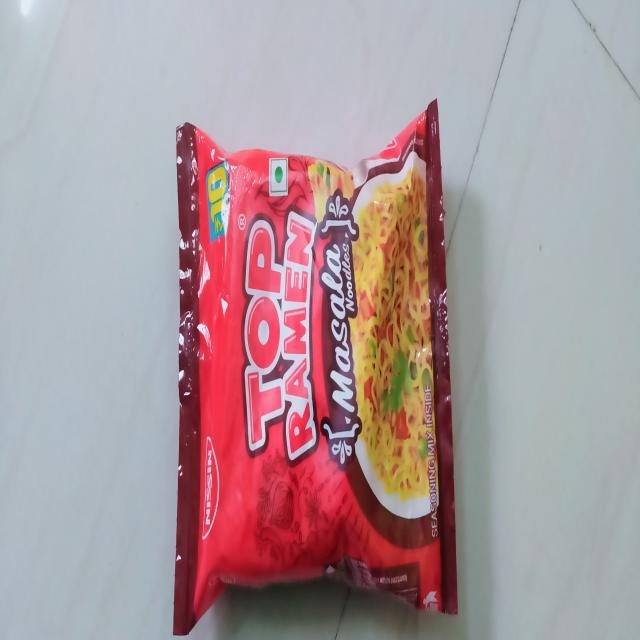maggi: (164, 106, 459, 640)
